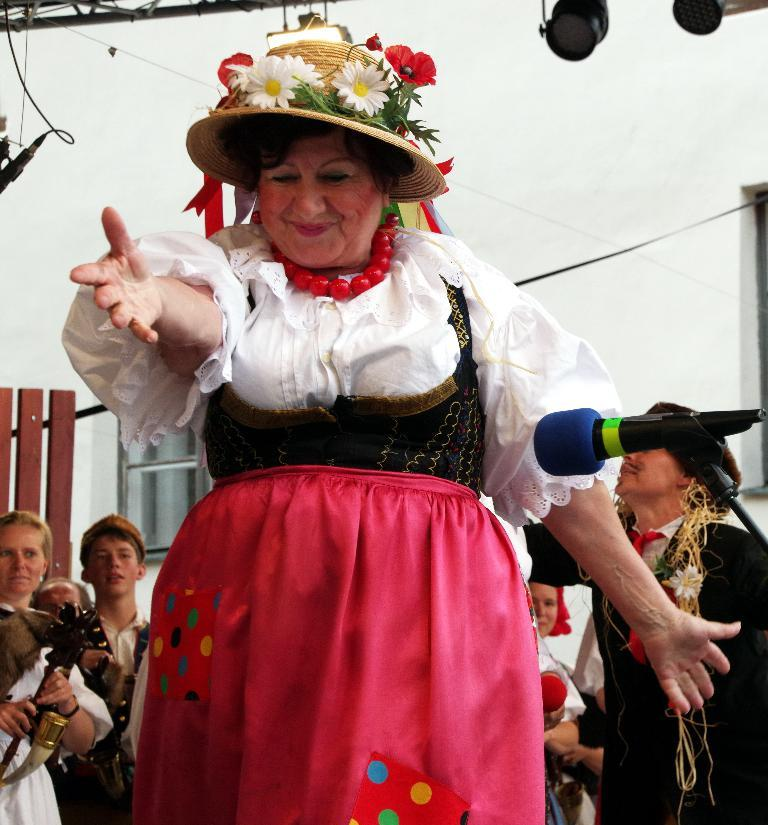Hat: (180, 32, 452, 206)
